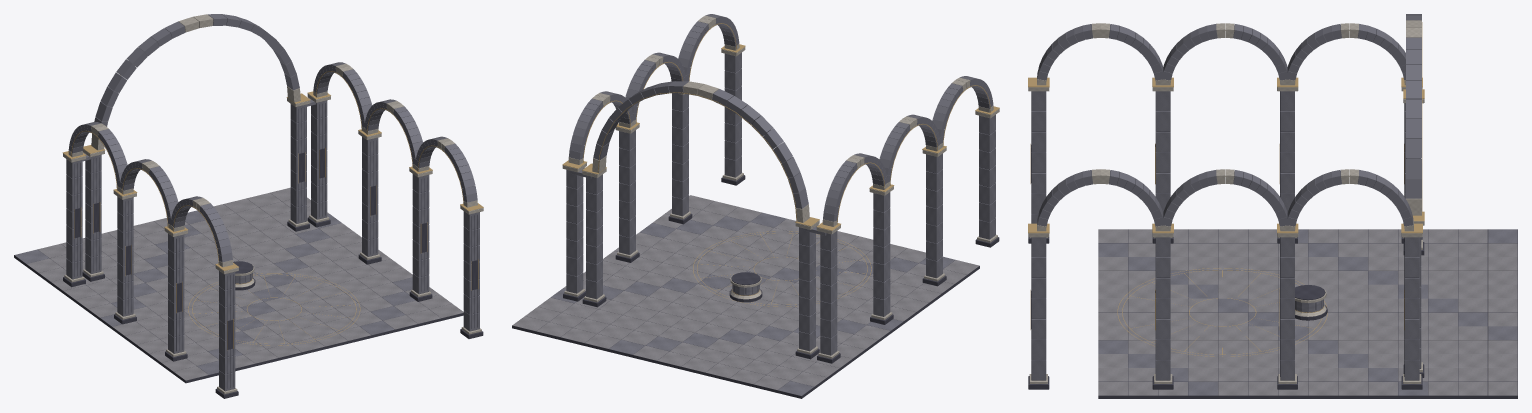
Rendered from chronicle-court-v01.glb.
The picture shows the model from 3 angles, left to right: view 1: azimuth 30°, elevation 25°; view 2: azimuth 150°, elevation 25°; view 3: azimuth 270°, elevation 25°; orthographic projection. The views are drawn at different scales.
Parts seen in each view (by area): view 1: Close jointed paving.169, Dressed pier course.070, Carved vertical channel.030, Close jointed paving.168, Great open memory arch.022, Inset plaque frame.020, Embedded continuous foundation.001, Flush memory floor inlay.003; view 2: Close jointed paving.169, Dressed pier course.070, Close jointed paving.168, Great open memory arch.022, Embedded continuous foundation.001, Carved vertical channel.030, Inset plaque frame.020, Flush memory floor inlay.003, Attached drum flute.012; view 3: Close jointed paving.169, Dressed pier course.070, Close jointed paving.168, Embedded continuous foundation.001, Great open memory arch.022, Carved vertical channel.030, Inset plaque frame.020, Flush memory floor inlay.003, Attached drum flute.012.
Part boxes in pixels (x1,y1,x2,y2): Close jointed paving.169: [27, 187, 463, 380]; Dressed pier course.070: [66, 14, 479, 390]; Carved vertical channel.030: [63, 103, 483, 398]; Close jointed paving.168: [14, 210, 415, 374]; Great open memory arch.022: [63, 14, 483, 394]; Inset plaque frame.020: [62, 71, 483, 350]; Embedded continuous foundation.001: [14, 193, 463, 383]; Flush memory floor inlay.003: [188, 273, 360, 345]; Close jointed paving.169: [512, 195, 979, 389]; Dressed pier course.070: [566, 14, 995, 355]; Close jointed paving.168: [550, 213, 955, 395]; Great open memory arch.022: [562, 15, 999, 358]; Embedded continuous foundation.001: [512, 203, 979, 398]; Carved vertical channel.030: [563, 69, 999, 363]; Inset plaque frame.020: [562, 23, 999, 230]; Flush memory floor inlay.003: [693, 231, 871, 306]; Attached drum flute.012: [729, 272, 762, 302]; Close jointed paving.169: [1098, 229, 1517, 395]; Dressed pier course.070: [1031, 14, 1421, 380]; Close jointed paving.168: [1098, 229, 1517, 395]; Embedded continuous foundation.001: [1098, 229, 1517, 398]; Great open memory arch.022: [1028, 20, 1424, 383]; Carved vertical channel.030: [1028, 91, 1424, 389]; Inset plaque frame.020: [1028, 22, 1424, 330]; Flush memory floor inlay.003: [1117, 268, 1327, 356]; Attached drum flute.012: [1295, 285, 1327, 320].
Bounding box in the file's own units: 21.2 × 17.13 × 26.38.
Materials: 5 (4 with a texture image).
